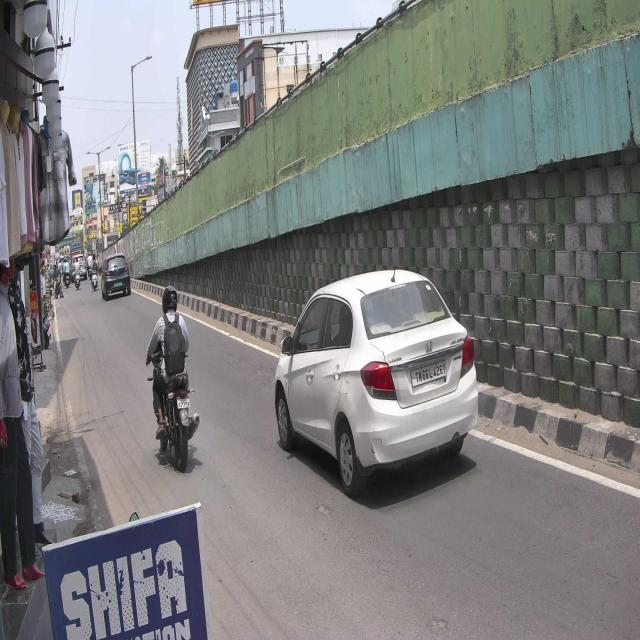single_rider: (145, 286, 200, 473)
